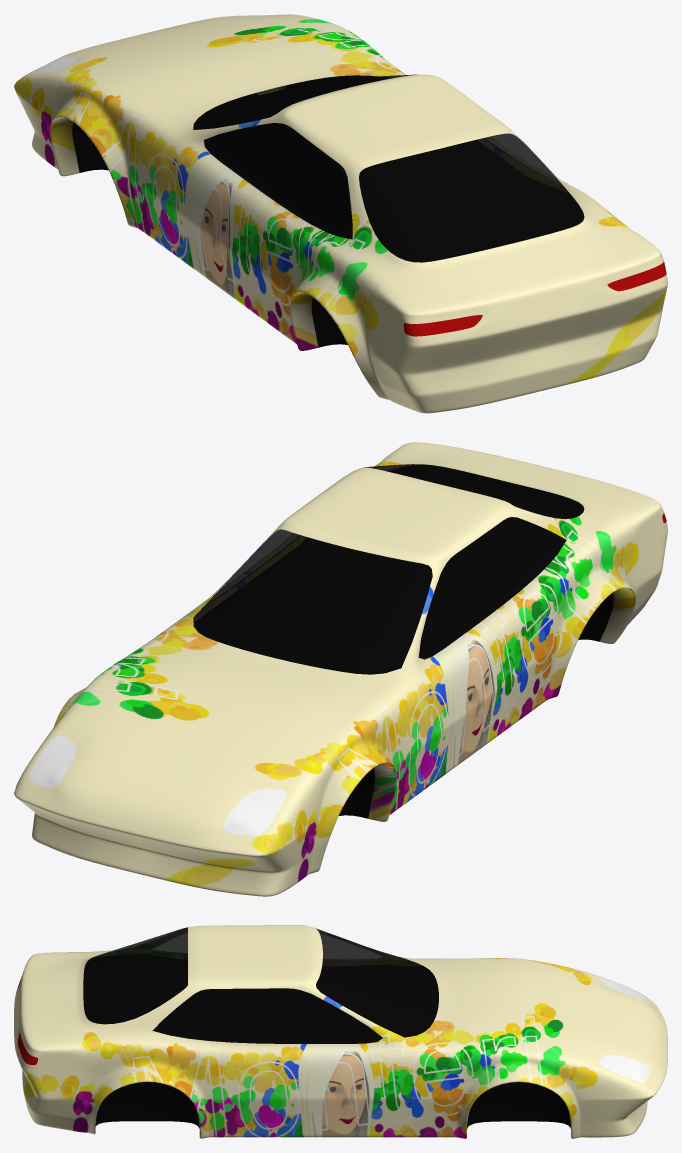
The model's file is Monteri-Body.glb.
The picture shows the model from 3 angles, top to bottom: view 1: azimuth 30°, elevation 25°; view 2: azimuth 150°, elevation 25°; view 3: azimuth 270°, elevation 25°; orthographic projection. The views are drawn at different scales.
Visible parts, largest first — view 1: Monteri-Body, Interior_cut3; view 2: Monteri-Body, Interior_cut3; view 3: Monteri-Body, Interior_cut3.
Boxes of the visible parts, x1,y1,x2,y2 form: Monteri-Body: (14, 14, 667, 413); Interior_cut3: (194, 76, 583, 261); Monteri-Body: (14, 442, 667, 896); Interior_cut3: (194, 465, 583, 673); Monteri-Body: (14, 925, 667, 1138); Interior_cut3: (84, 954, 438, 1043).
Size of the model in its own units: 1.88 by 1.08 by 4.57.
4 materials, 2 textured.
